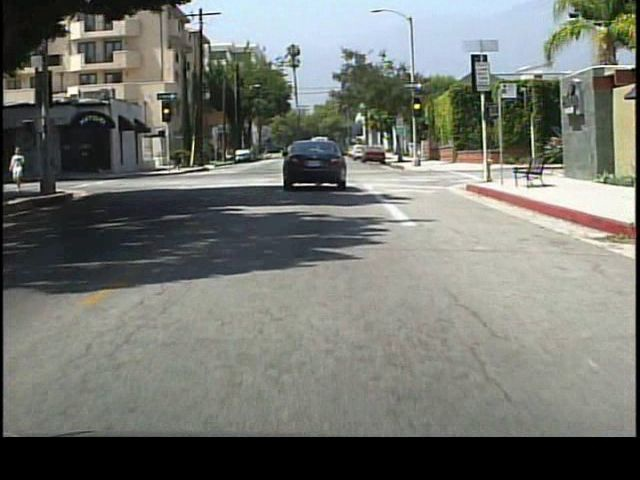person: (11, 144, 30, 193)
